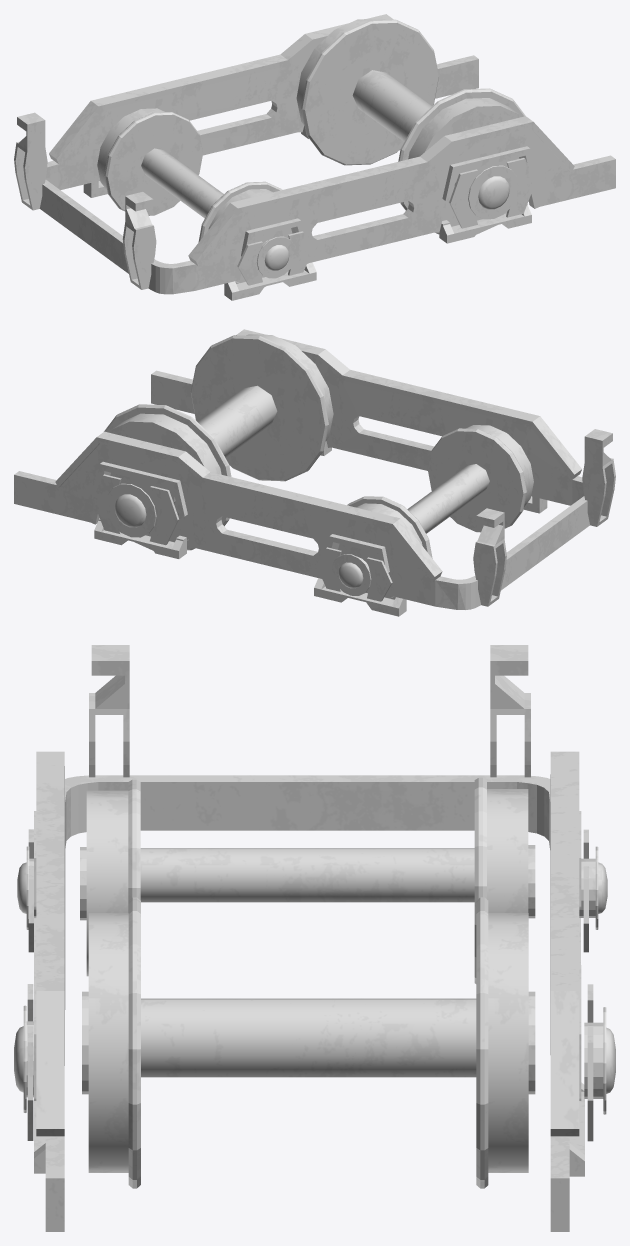
The model's file is Steam Train WheelFrame_B_001.fbx.
The picture shows the model from 3 angles, top to bottom: view 1: azimuth 30°, elevation 25°; view 2: azimuth 150°, elevation 25°; view 3: azimuth 270°, elevation 25°; orthographic projection. The views are drawn at different scales.
Visible parts, largest first — view 1: Steam_Train_WheelFrame_B_001; view 2: Steam_Train_WheelFrame_B_001; view 3: Steam_Train_WheelFrame_B_001.
Part boxes in pixels (bbox=[...]): Steam_Train_WheelFrame_B_001: bbox=[14, 14, 615, 300]; Steam_Train_WheelFrame_B_001: bbox=[14, 329, 615, 616]; Steam_Train_WheelFrame_B_001: bbox=[14, 645, 615, 1231].
Bounding box in the file's own units: 251 × 73.09 × 151.
2 materials, 2 textured.
